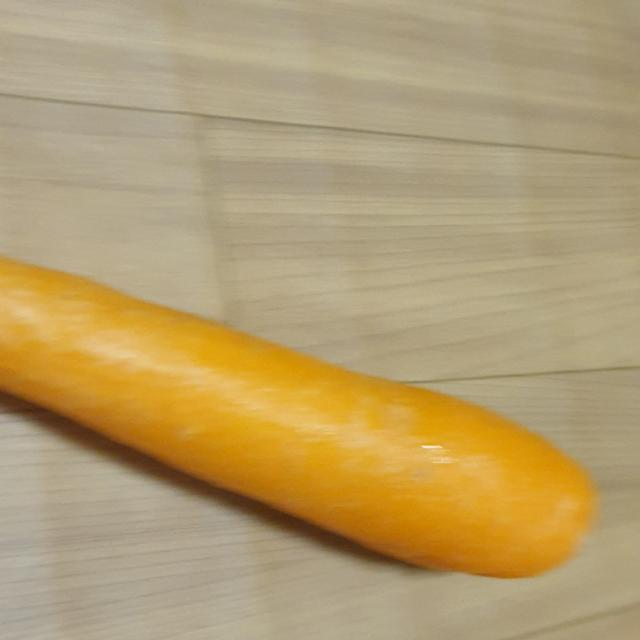carrot: (0, 242, 617, 589)
